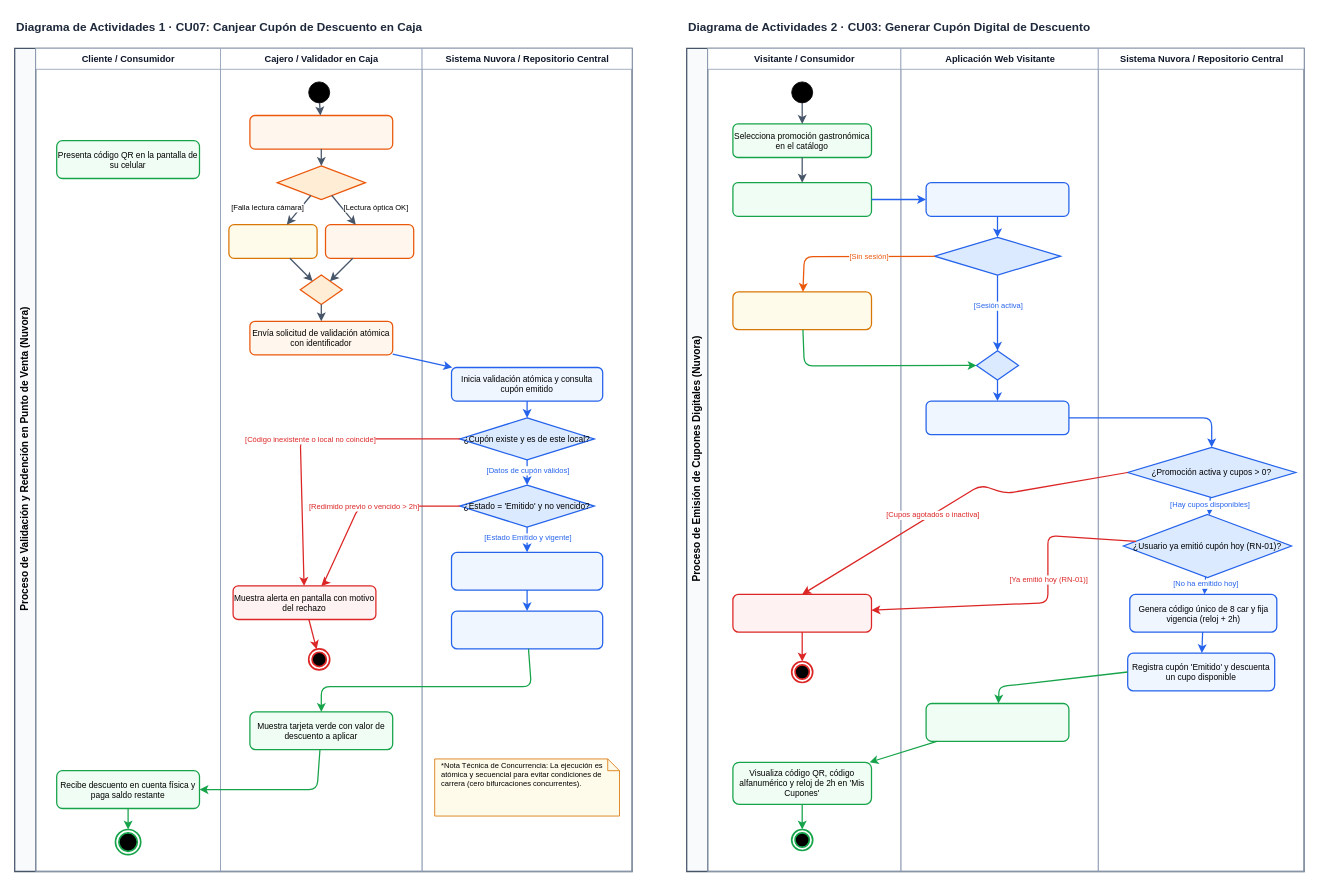
This 1320x886 diagram has some shape labels left out. Each missing label, with the centre of its shape:
"Aplica bloqueo exclusivo y marca el cupón como 'Redimido'" belongs at (x=526, y=570).
"Apunta cámara y enfoca código QR" belongs at (x=369, y=241).
"Asienta registro inmutable en bitácora de auditoría" belongs at (x=526, y=629).
"Digita código alfanumérico manualmente (CU09)" belongs at (x=272, y=241).
"Envía solicitud autenticada de emisión de cupón" belongs at (x=997, y=417).
"Ingresa credenciales y completa inicio de sesión (CU04)" belongs at (x=802, y=310).
"Presenta código QR dinámico e inicia reloj regresivo 2h" belongs at (x=997, y=722).
"Presiona botón 'Escanear Cupón' en terminal de caja" belongs at (x=321, y=131).
"Presiona botón 'Obtener Cupón de Descuento'" belongs at (x=802, y=199).
"Verifica credencial de sesión activa del visitante" belongs at (x=997, y=199).
"Visualiza mensaje: cupos agotados o límite diario alcanzado" belongs at (x=802, y=612).
"¿Usuario autenticado?" belongs at (x=997, y=255).
